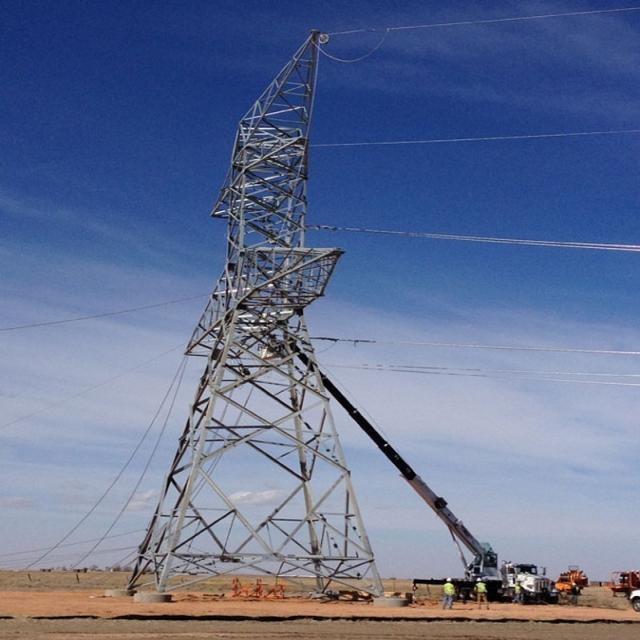non-critical vegetation: (171, 54, 371, 564)
